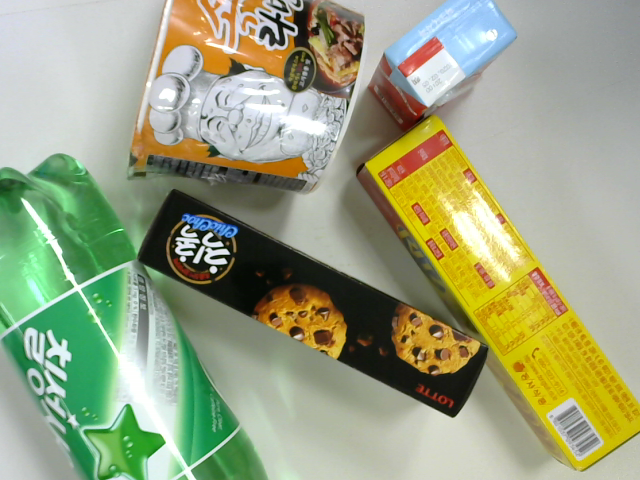Chicchok_Original_2400: (128, 184, 494, 423)
Chilseong_Cider_1.5L: (1, 150, 273, 477)
Hejangchan: (116, 1, 370, 194)
Picnic_Apple: (363, 1, 523, 137)
Ritz_Remon_96g: (355, 114, 640, 479)
